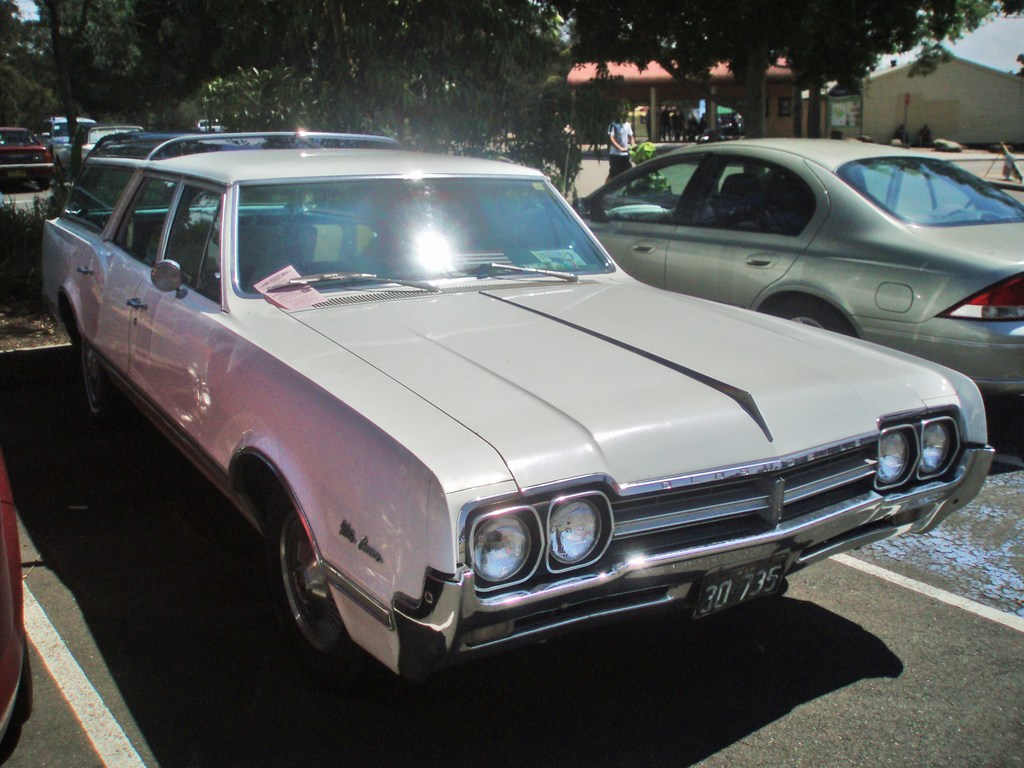Car: (33, 136, 994, 689), (574, 133, 1023, 416), (0, 436, 27, 764), (0, 124, 58, 178), (93, 128, 223, 150), (46, 110, 90, 150)
